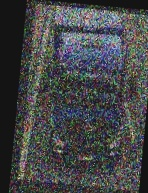truck: (35, 5, 141, 172)
